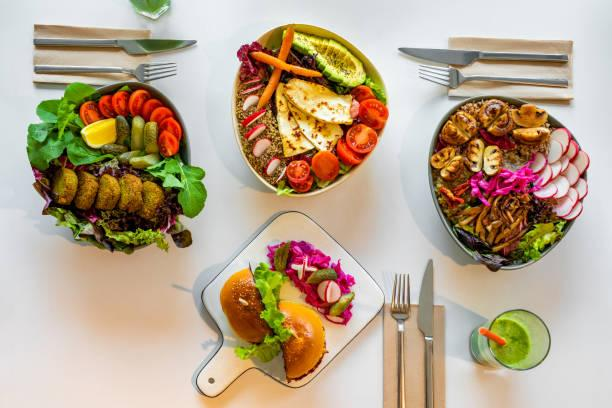Braised Crucian Carp: (190, 210, 383, 398), (231, 23, 387, 196), (428, 96, 583, 267), (42, 80, 190, 254)
